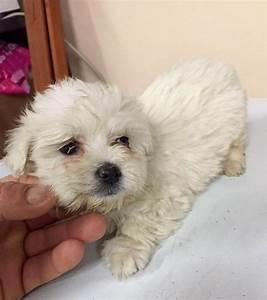dog: (0, 55, 249, 281)
